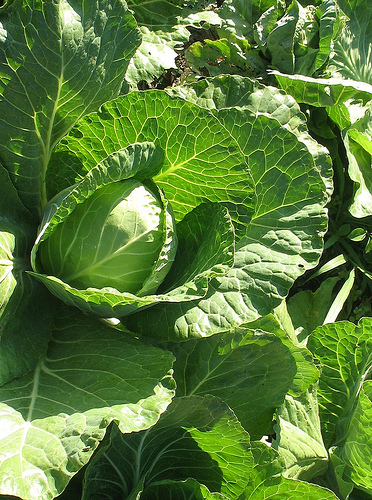cabbage: (1, 1, 334, 497)
